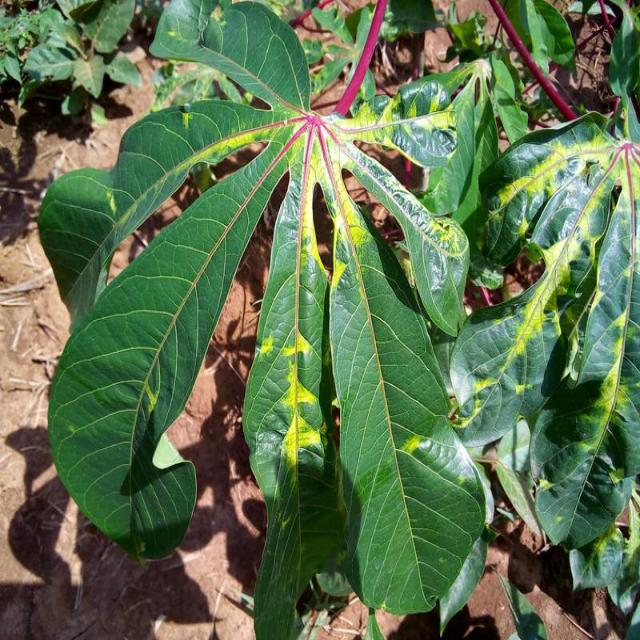cassava leaf: (36, 1, 638, 637), (325, 167, 488, 618), (241, 132, 343, 638)
